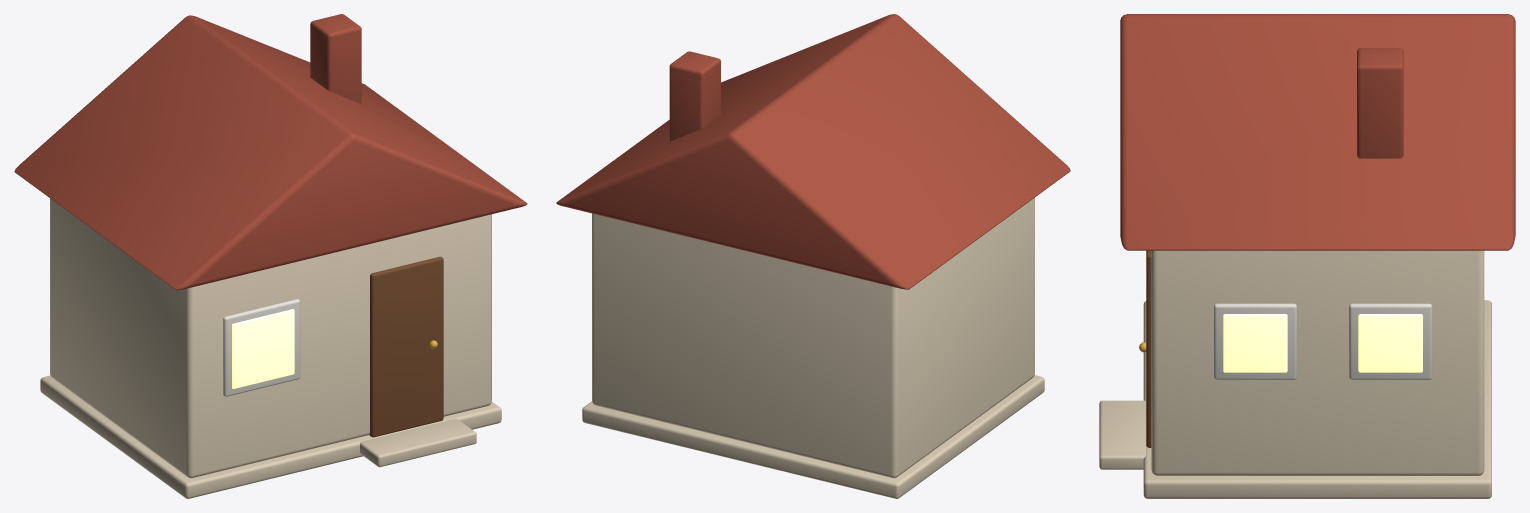
Rendered from casa.glb.
3 renders of one model, left to right at view 1: azimuth 30°, elevation 25°; view 2: azimuth 150°, elevation 25°; view 3: azimuth 270°, elevation 25°, orthographic. The views are drawn at different scales.
Visible parts, largest first — view 1: casa_telhado, casa_parede, casa_porta, Cube, casa_janela, Cube.001, Cube.002, Cube.003; view 2: casa_parede, casa_telhado, Cube, Cube.001; view 3: casa_telhado, casa_parede, Cube, Cube.001, Cube.007, Cube.005, Cube.002, Cube.006, Cube.004, casa_porta.
Boxes of the visible parts, x1,y1,x2,y2 form: casa_telhado: [14, 15, 527, 290]; casa_parede: [50, 198, 491, 478]; casa_porta: [369, 256, 443, 437]; Cube: [40, 375, 501, 498]; casa_janela: [232, 309, 294, 388]; Cube.001: [310, 14, 361, 103]; Cube.002: [360, 418, 476, 467]; Cube.003: [223, 299, 300, 396]; casa_parede: [592, 197, 1034, 478]; casa_telhado: [556, 14, 1070, 289]; Cube: [582, 375, 1044, 498]; Cube.001: [669, 51, 720, 141]; casa_telhado: [1120, 14, 1515, 250]; casa_parede: [1151, 250, 1484, 475]; Cube: [1143, 300, 1491, 498]; Cube.001: [1357, 48, 1403, 158]; Cube.007: [1358, 314, 1422, 372]; Cube.005: [1223, 314, 1287, 372]; Cube.002: [1099, 400, 1145, 469]; Cube.006: [1349, 303, 1432, 379]; Cube.004: [1214, 303, 1296, 379]; casa_porta: [1146, 250, 1151, 447].
Bounding box in the file's own units: 4.62 × 4.3 × 4.
